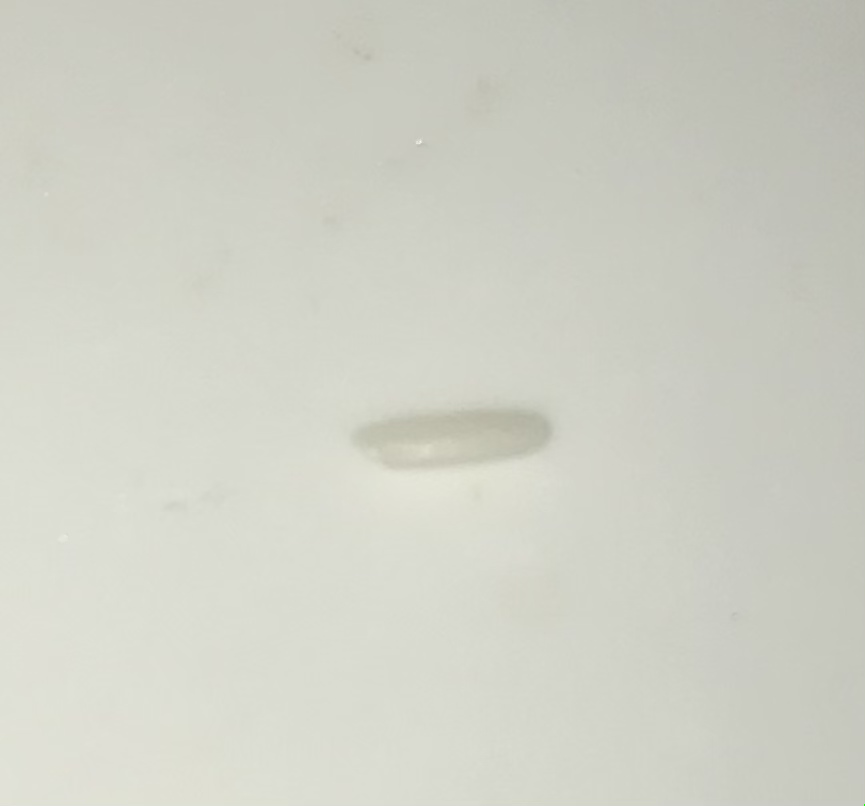Gao Lai Sua: (349, 399, 556, 480)
